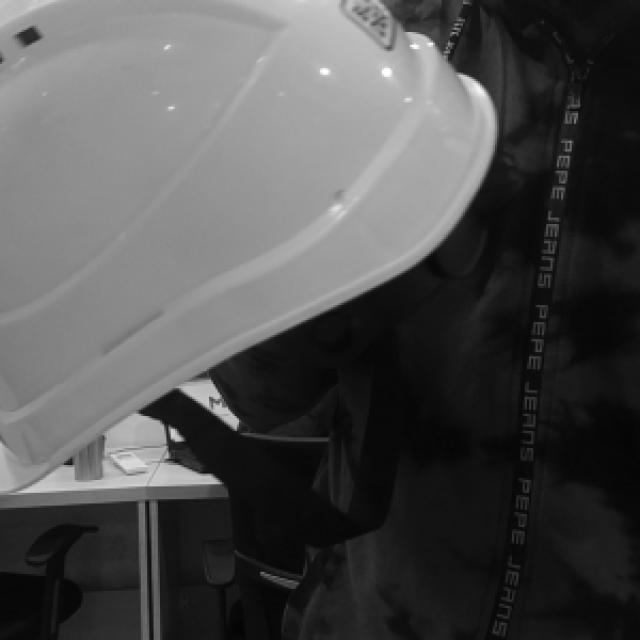safety_helmet: (0, 1, 499, 494)
